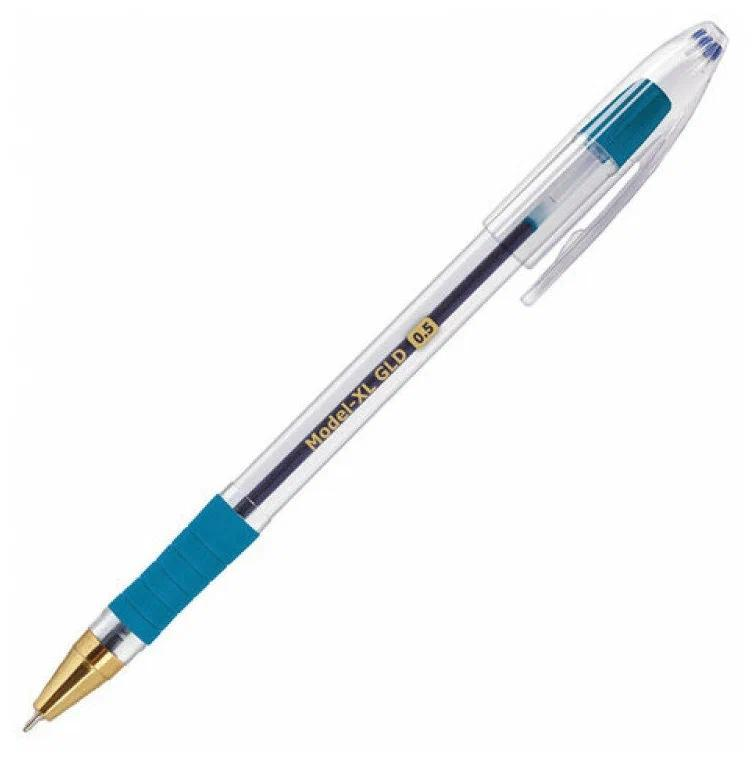pen-pencil: (25, 22, 725, 730)
